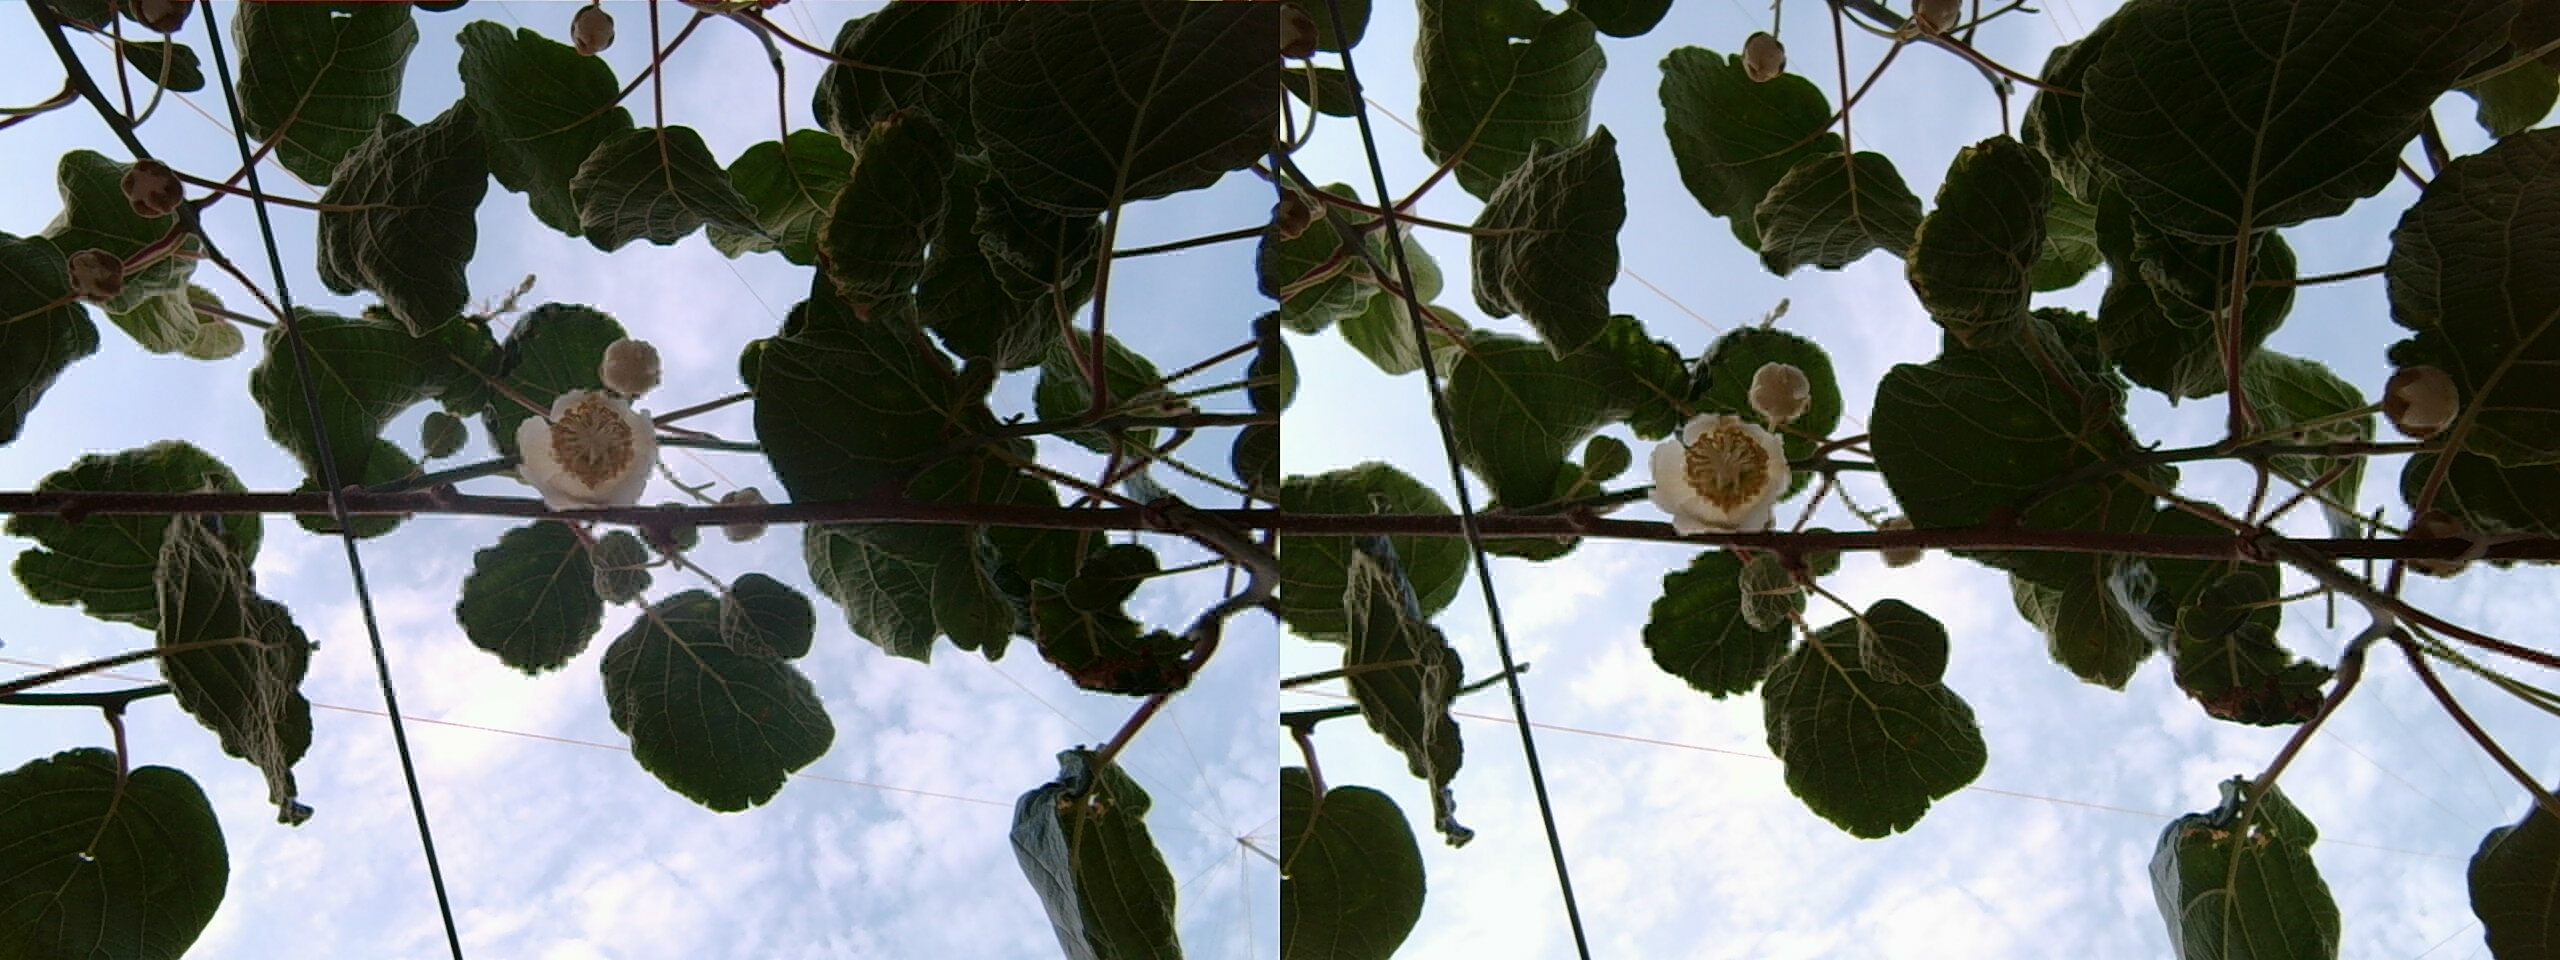flower: (1646, 403, 1793, 522), (509, 380, 653, 501)
